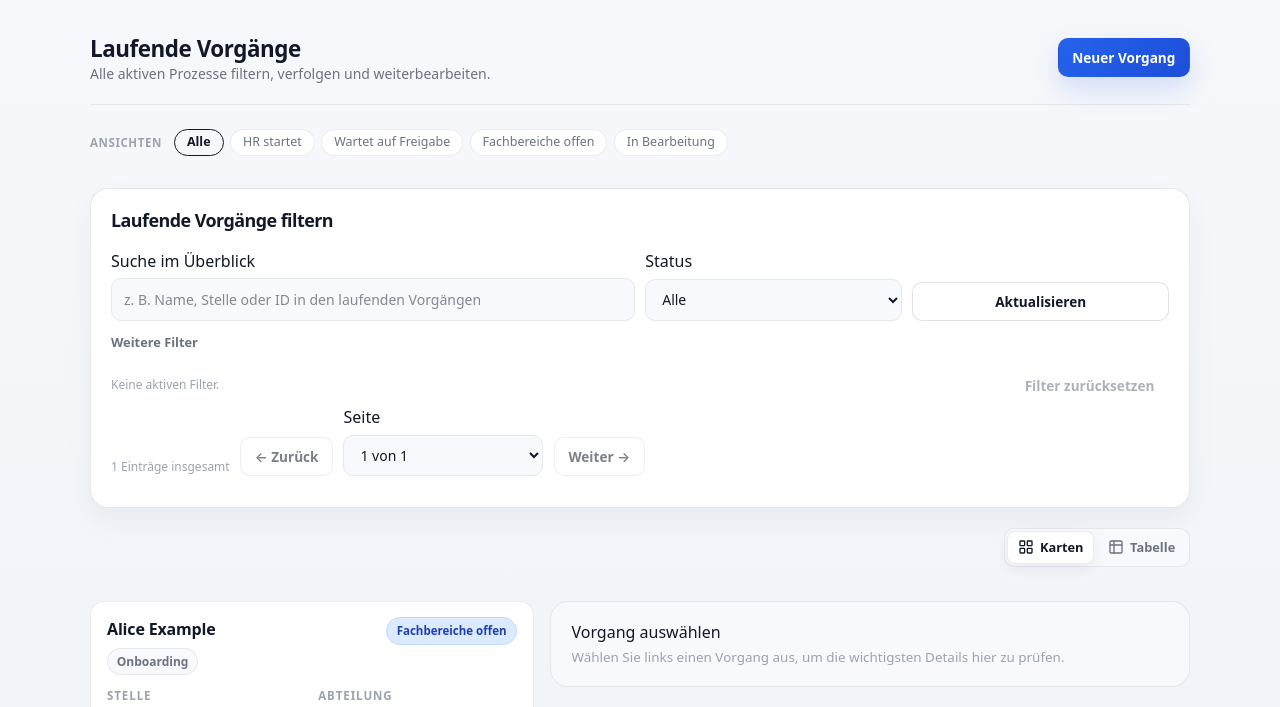
it: WorkflowListPage › shows the filtered empty state when backend filtering returns no rows
Expected: the heading "Alice Example" is shown, [107, 617, 216, 642]
In the field labelled "Suche im Überblick": (373, 300) [111, 278, 635, 321], type "zzzzz"
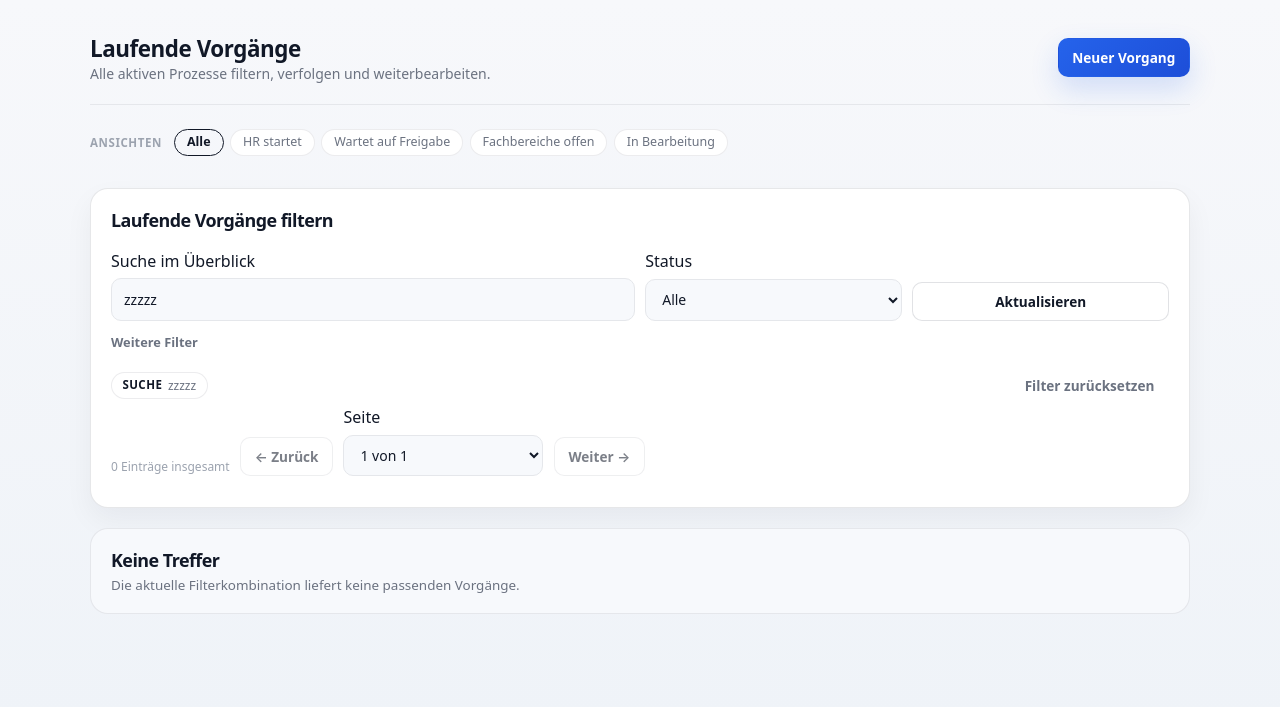
Now the heading "Keine Treffer" is shown, box [111, 548, 219, 572]
